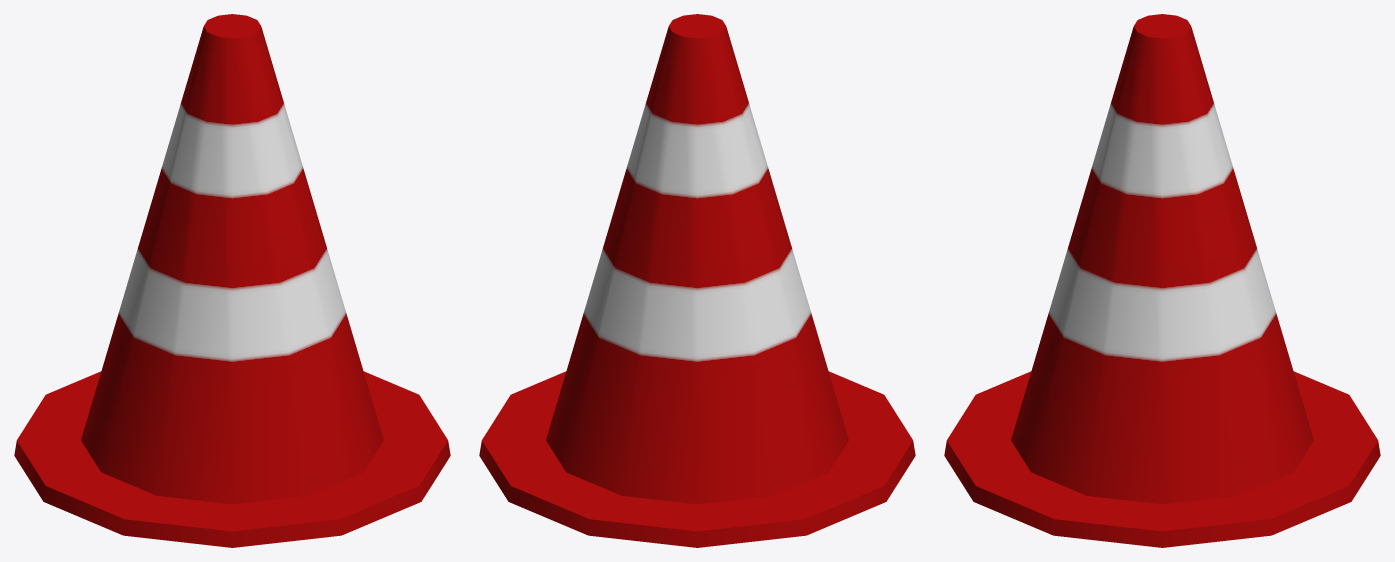
The model's file is trafficCone.FBX.
3 renders of one model, left to right at view 1: azimuth 30°, elevation 25°; view 2: azimuth 150°, elevation 25°; view 3: azimuth 270°, elevation 25°, orthographic.
Visible parts, largest first — view 1: trafficCone; view 2: trafficCone; view 3: trafficCone.
Part boxes in pixels (x1,y1,x2,y2): trafficCone: (14, 14, 450, 547); trafficCone: (479, 14, 915, 547); trafficCone: (944, 14, 1380, 547).
Size of the model in its own units: 109 by 109 by 118.
1 material, 1 textured.
